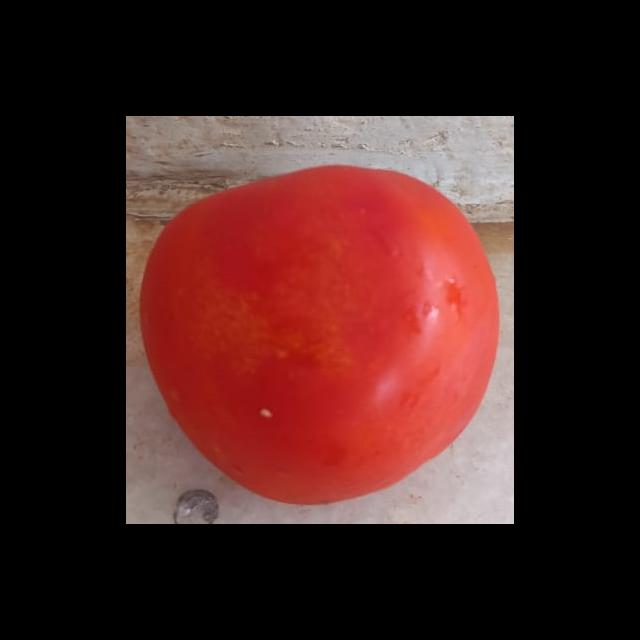tomato: (138, 137, 507, 504)
